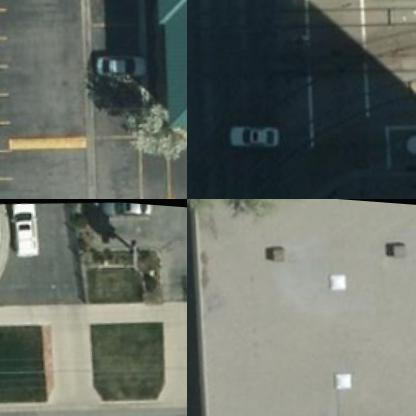car: (92, 42, 153, 80), (4, 200, 44, 256), (229, 112, 285, 148), (100, 199, 158, 216)
